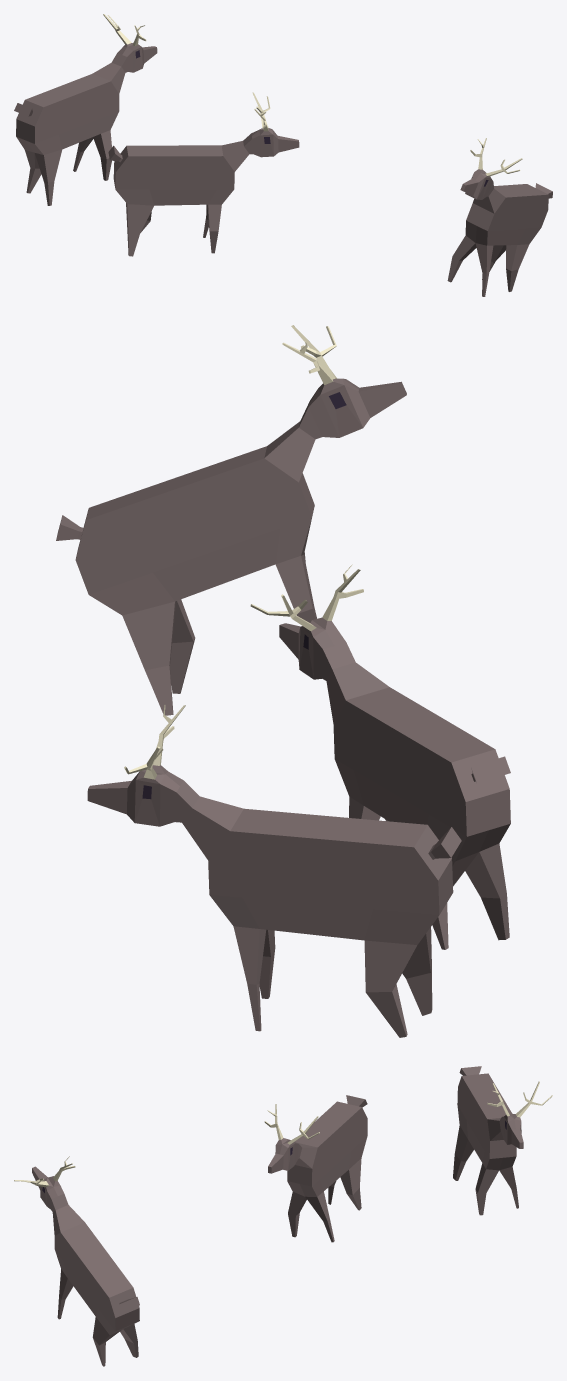
Rendered from Deer-0.fbx.
The picture shows the model from 3 angles, top to bottom: view 1: azimuth 30°, elevation 25°; view 2: azimuth 150°, elevation 25°; view 3: azimuth 270°, elevation 25°; orthographic projection. The views are drawn at different scales.
Parts seen in each view (by area): view 1: Deer-0; view 2: Deer-0; view 3: Deer-0.
Boxes of the visible parts, <box> form: Deer-0: <box>14,14,552,296</box>; Deer-0: <box>56,325,510,1037</box>; Deer-0: <box>14,1066,552,1366</box>.
Bounding box in the file's own units: 69.36 × 31.9 × 83.92.
